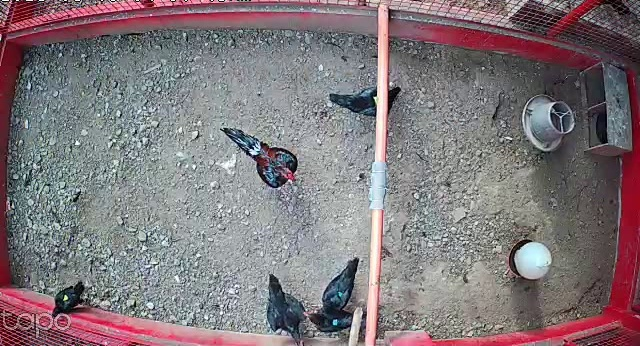Chicken: (327, 75, 405, 124), (263, 272, 307, 346), (322, 255, 361, 311), (300, 305, 366, 334), (52, 280, 87, 318)
Rooster: (218, 123, 300, 190)
Saddle_Color_Blue: (332, 319, 338, 326)
Saddle_Color_Yellow: (63, 294, 68, 302)
